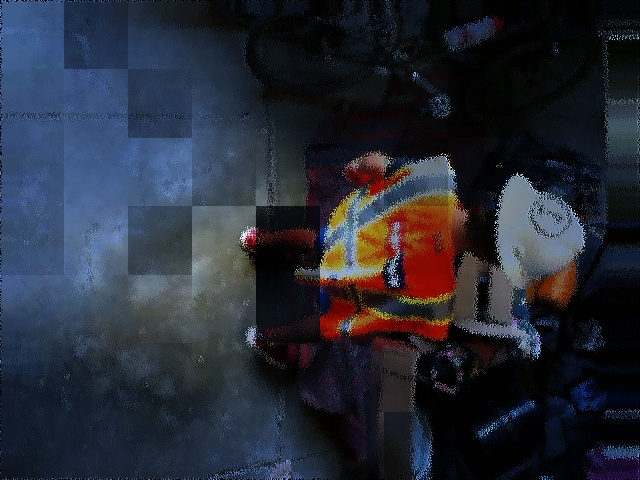one: (532, 195, 570, 234)
